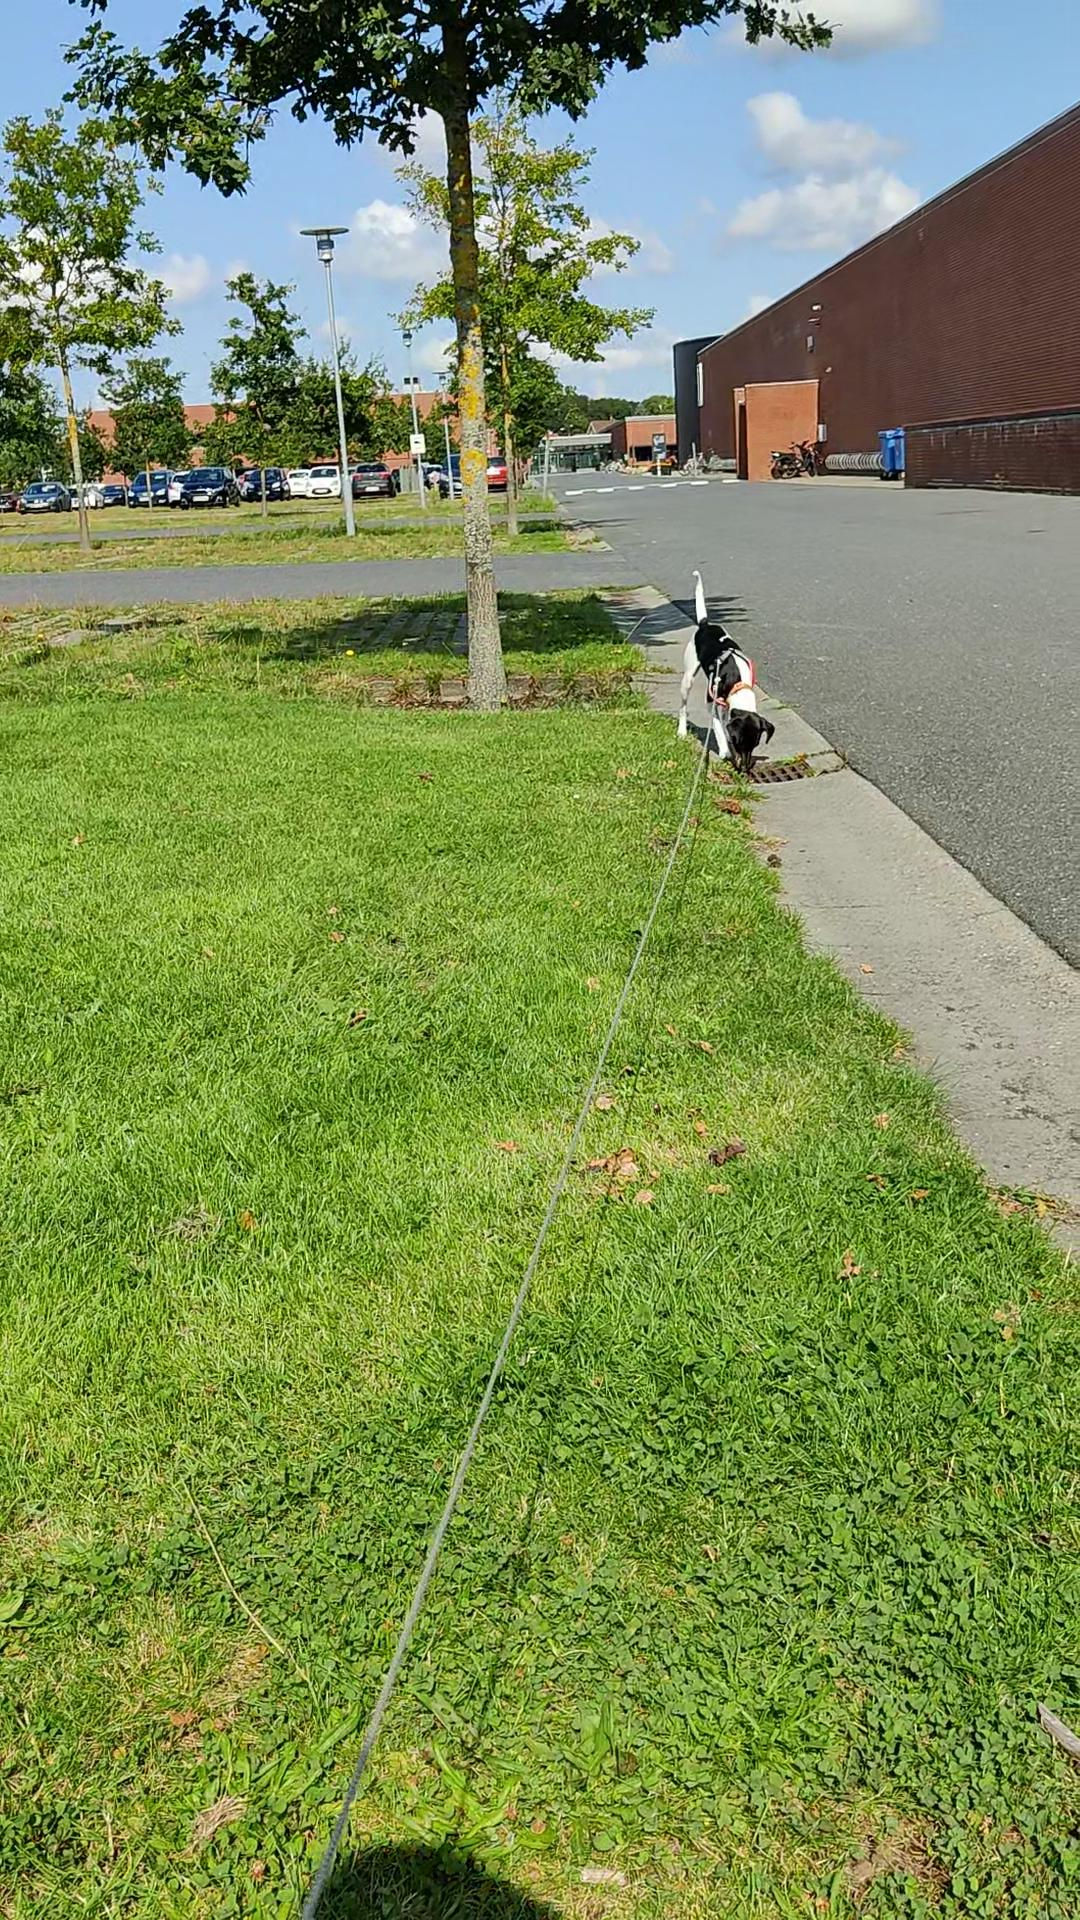Dog: (674, 563, 778, 770)
